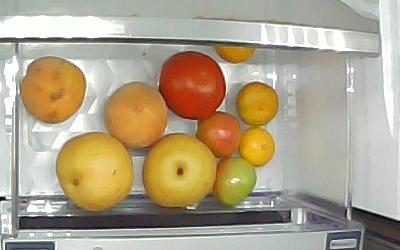peach: (21, 57, 87, 124), (103, 81, 167, 149)
pear: (55, 132, 133, 211), (144, 133, 216, 208)
tangerine: (236, 81, 280, 126), (240, 128, 276, 165), (215, 45, 258, 64)
tomato: (160, 52, 227, 120), (213, 155, 258, 207), (196, 110, 242, 159)
